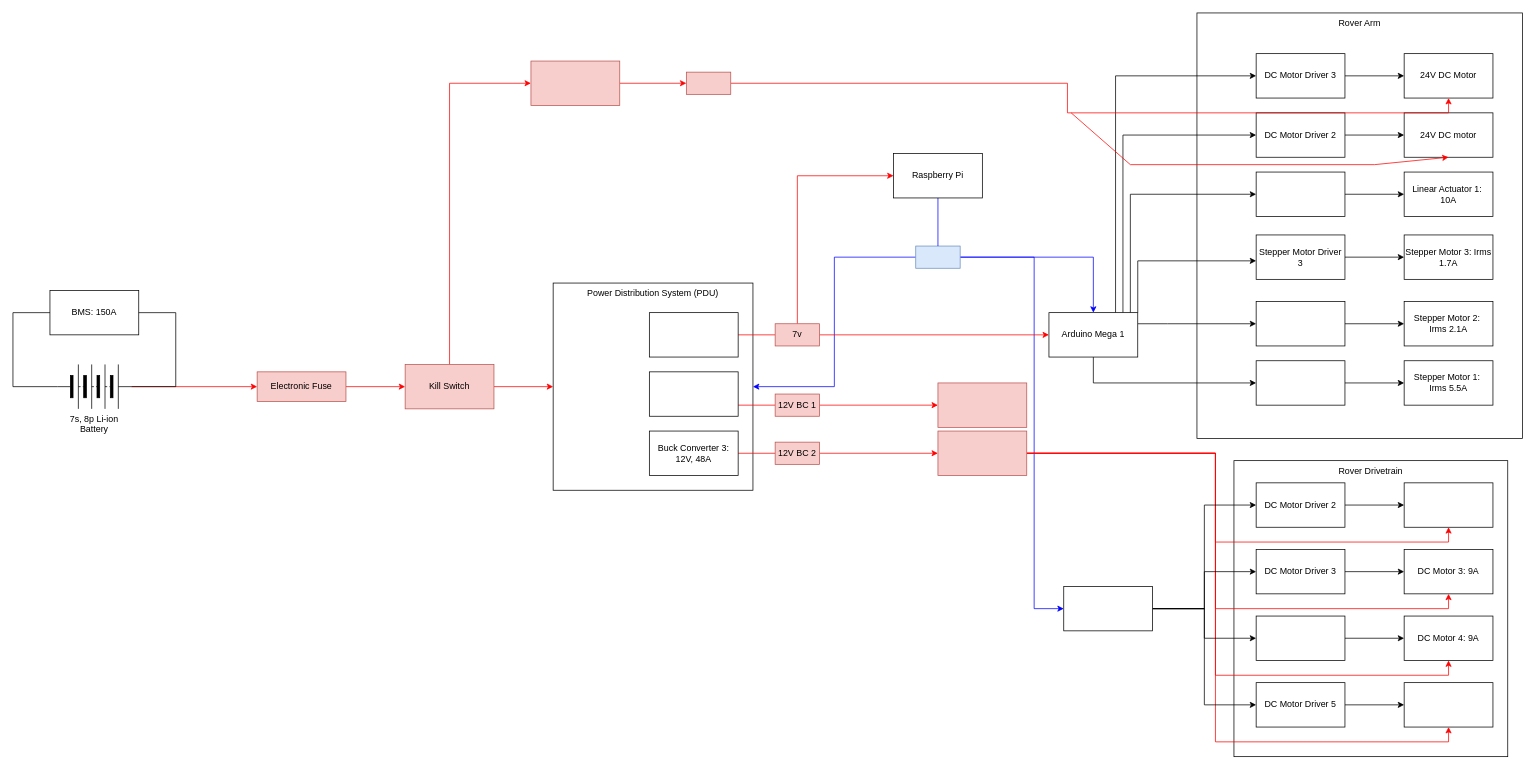
Image size: 1536x770. Some labels were removed from this diagram. The shapes that lost their labels are listed below. From the top down, each one's centre as x and y in pixels, then its label:
At (575,82): "Electronic Fuse 4".
At (708,82): "24V".
At (1300,193): "DC Motor Driver 1".
At (937,256): "I2C".
At (693,334): "Buck Converter 1: 7v".
At (1300,323): "Stepper Motor Driver 2".
At (693,393): "Buck Converter 2: 12V, 48A".
At (1300,382): "Stepper Motor Driver 1".
At (982,404): "Electronic Fuse 2".
At (982,452): "Electronic Fuse 3".
At (1448,504): "DC Motor 2: 9A".
At (1108,608): "Arduino Mega 2".
At (1300,637): "DC Motor Driver 4".
At (1448,704): "DC Motor 5: 9A".
